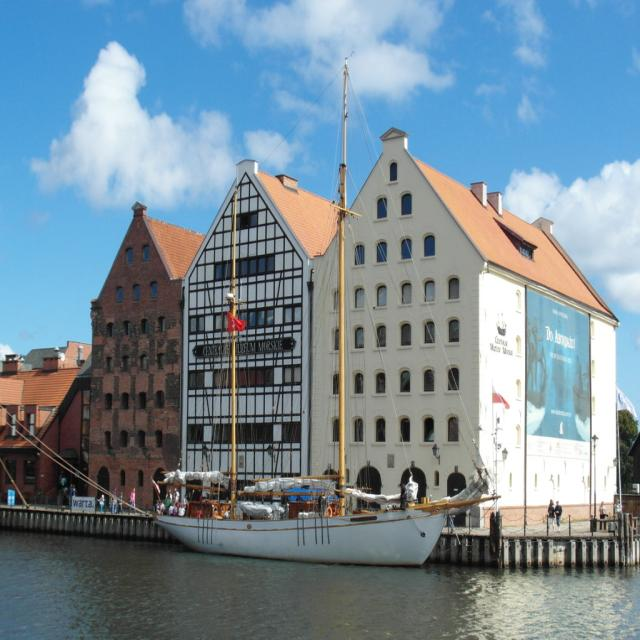Boat: (115, 451, 492, 559)
